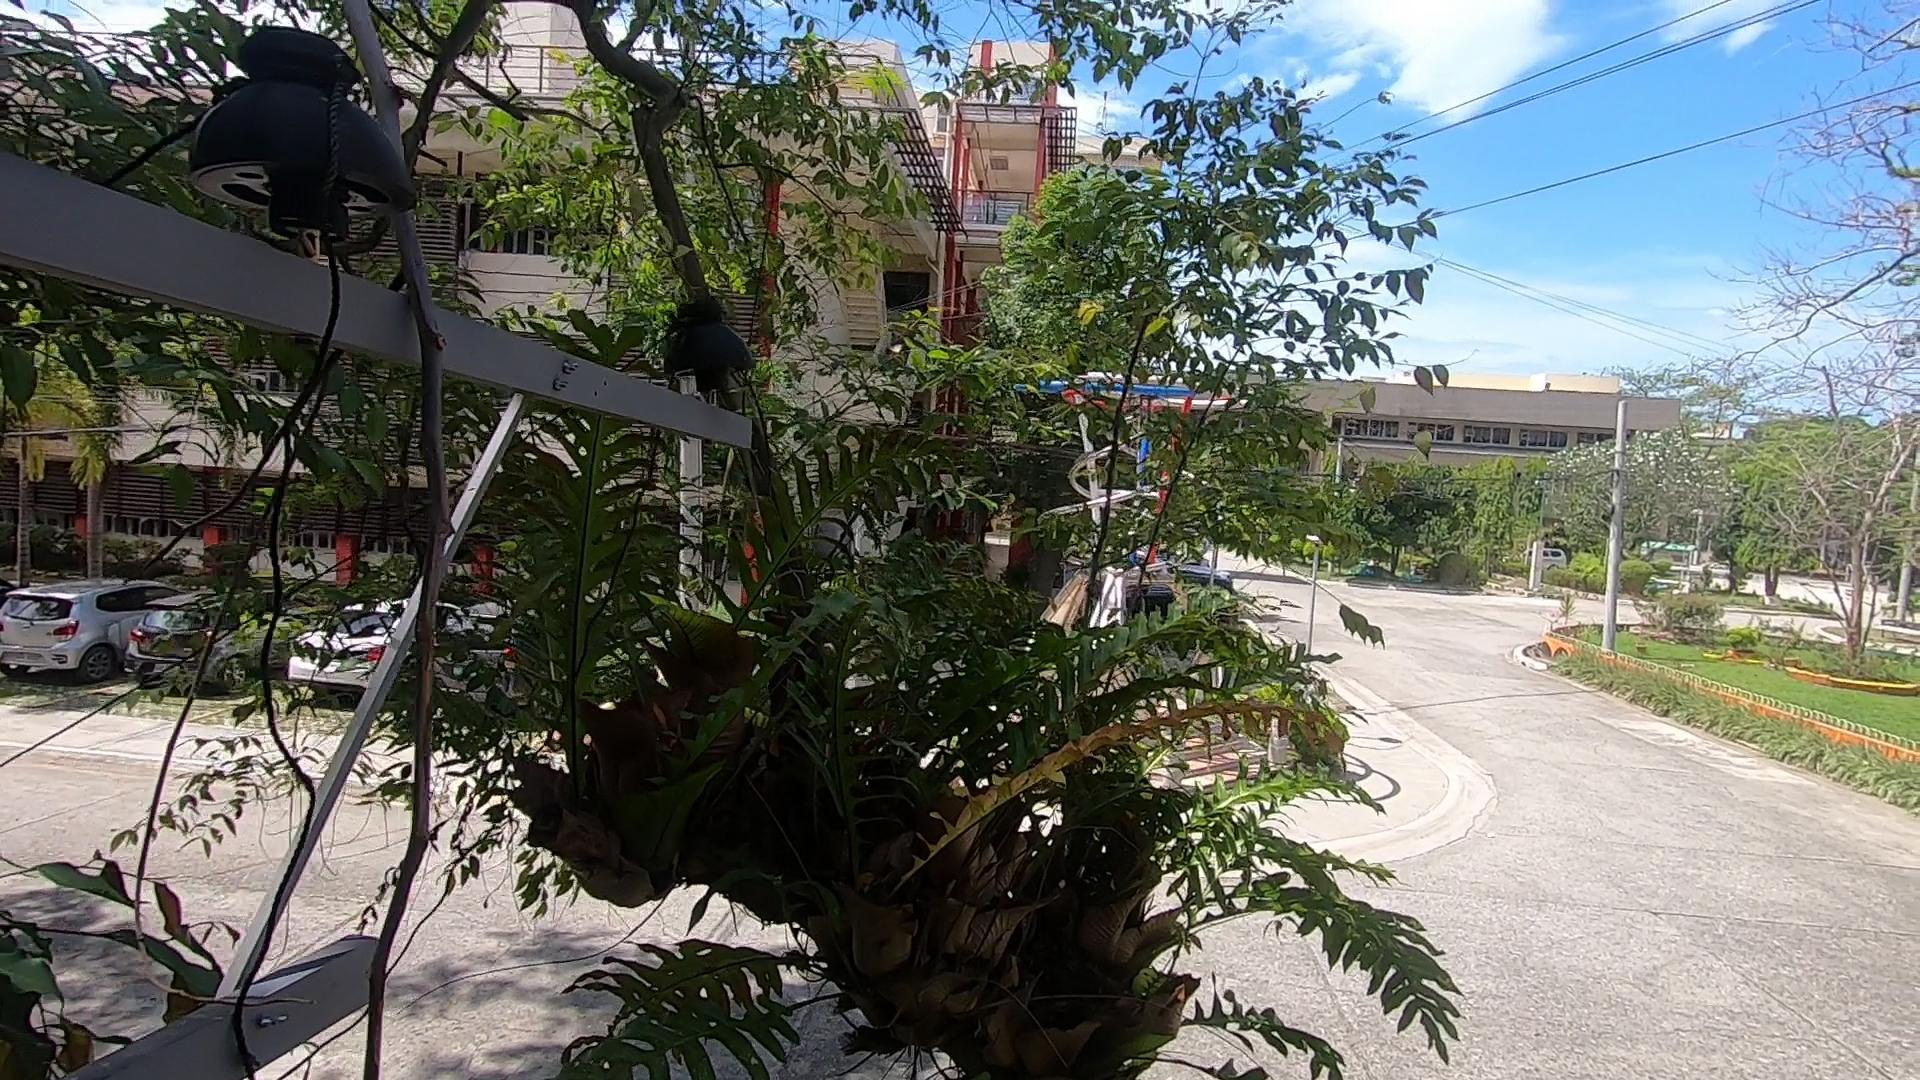tree branch: (261, 3, 545, 1075)
